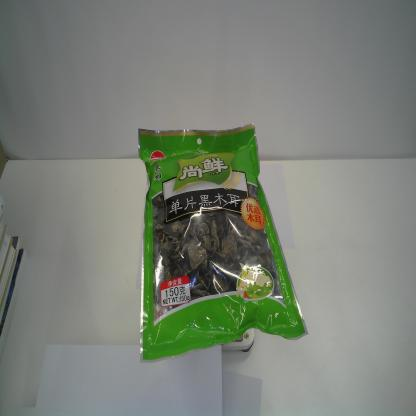Dried Food: (135, 120, 309, 367)
